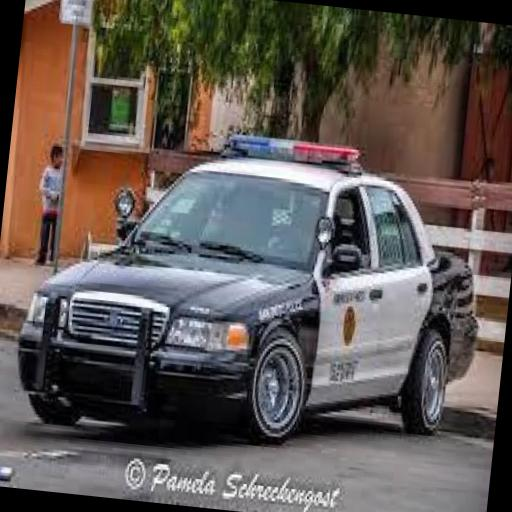Ambulance: (0, 110, 507, 477)
